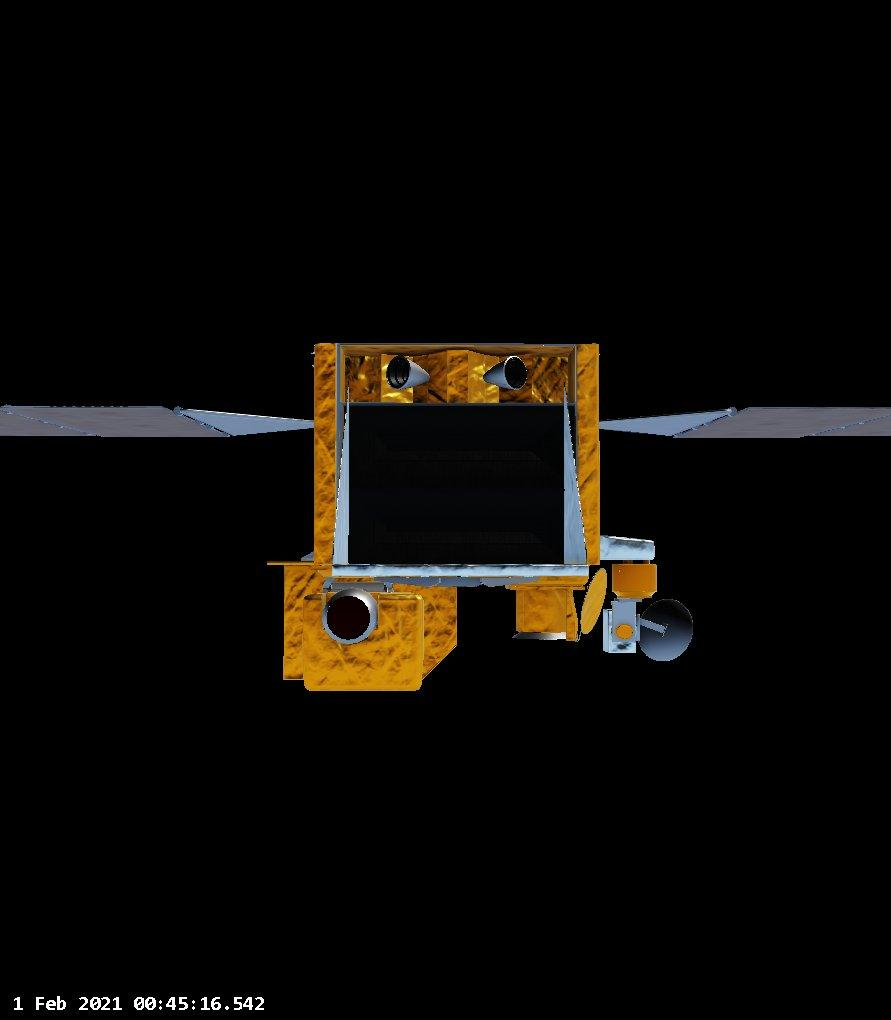antenna: (634, 597, 698, 665), (580, 566, 610, 638), (512, 624, 571, 645)
body: (308, 336, 609, 700)
solar: (0, 401, 253, 442), (661, 400, 891, 444)
thruster: (378, 356, 432, 394), (482, 353, 528, 394)
